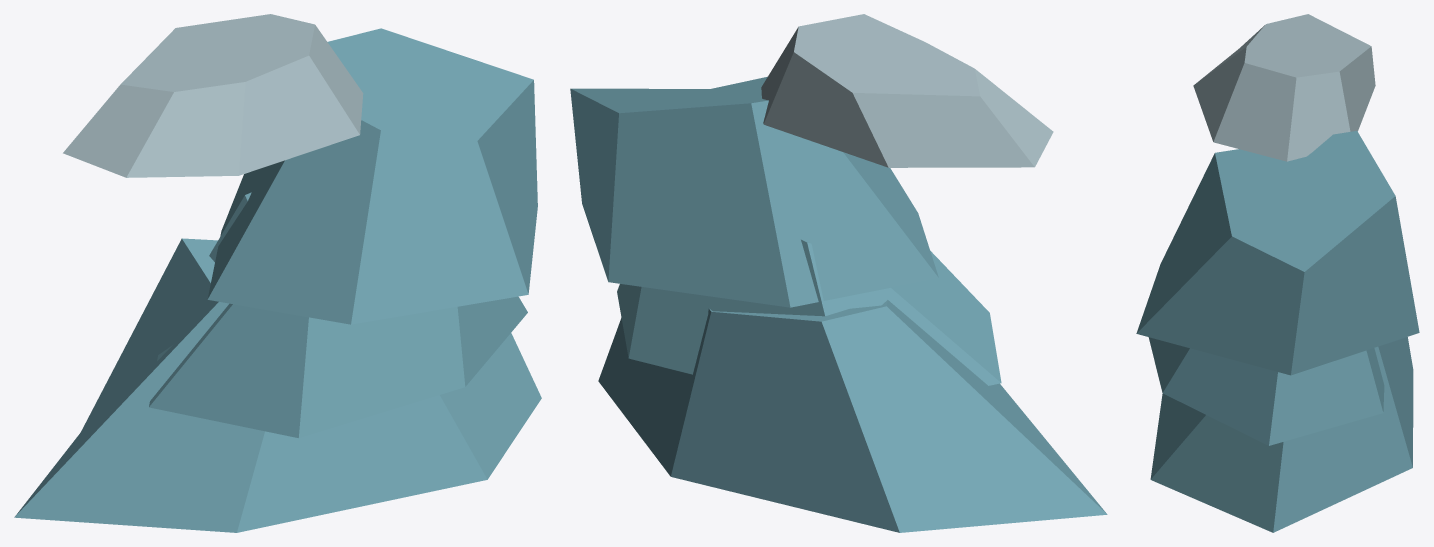
The model's file is map-boundaries-v5__frost_04.glb.
3 views of the same model, side by side, from view 1: azimuth 30°, elevation 25°; view 2: azimuth 150°, elevation 25°; view 3: azimuth 270°, elevation 25° (orthographic). The views are drawn at different scales.
Parts seen in each view (by area): view 1: frost_04; view 2: frost_04; view 3: frost_04.
Boxes of the visible parts, x1,y1,x2,y2 form: frost_04: (14, 14, 541, 532); frost_04: (570, 14, 1107, 532); frost_04: (1136, 14, 1419, 532).
Bounding box in the file's own units: 1.33 × 1 × 0.7055.
